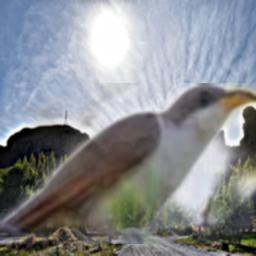Cuckoo: (0, 83, 256, 244)
